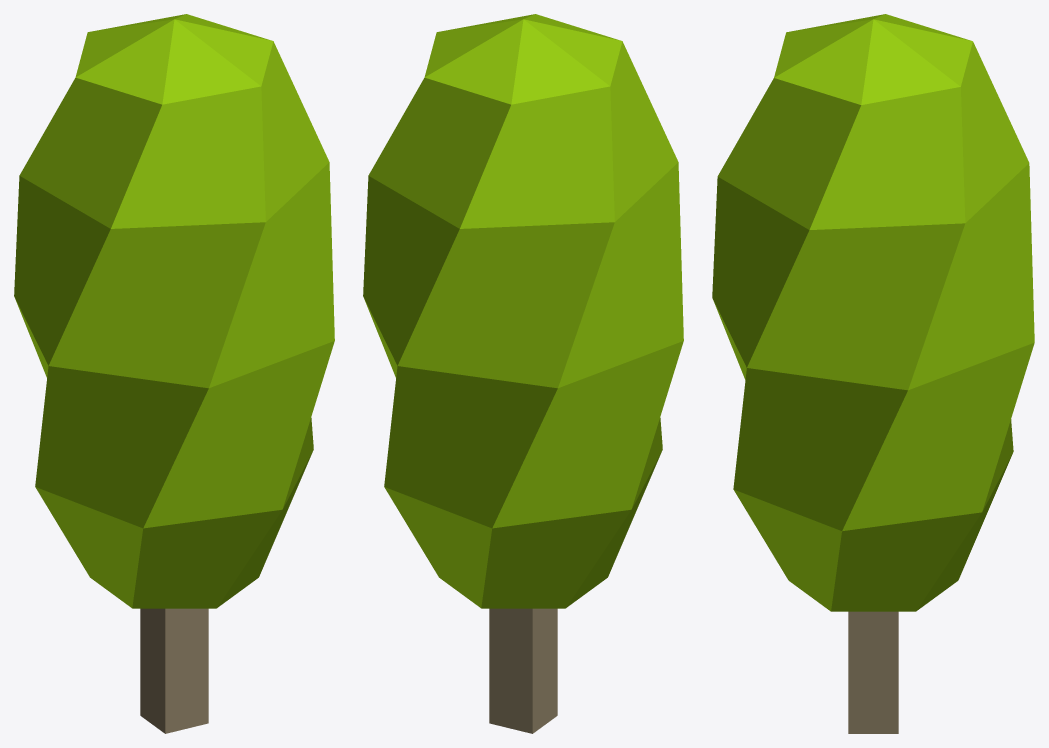
The model's file is tree_cylinder_7.fbx.
The picture shows the model from 3 angles, left to right: view 1: azimuth 30°, elevation 25°; view 2: azimuth 150°, elevation 25°; view 3: azimuth 270°, elevation 25°; orthographic projection.
Parts seen in each view (by area): view 1: tree_cylinder_7; view 2: tree_cylinder_7; view 3: tree_cylinder_7.
Boxes of the visible parts, <box> form: tree_cylinder_7: <box>14,14,334,733</box>; tree_cylinder_7: <box>363,14,683,733</box>; tree_cylinder_7: <box>712,14,1034,733</box>.
Bounding box in the file's own units: 81.19 × 190 × 78.77.
